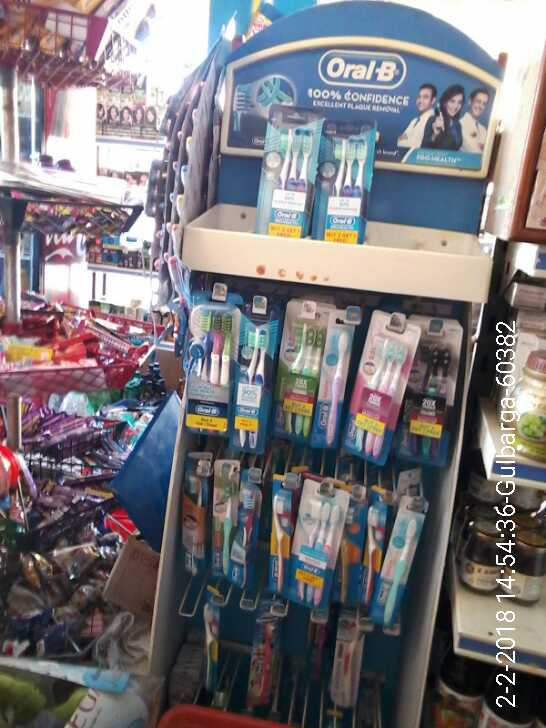oralb: (254, 91, 322, 242), (398, 301, 455, 475), (179, 296, 238, 434), (358, 302, 405, 466), (229, 287, 274, 453), (318, 119, 371, 249), (277, 299, 321, 444), (375, 509, 415, 638), (296, 487, 334, 614), (318, 307, 349, 453), (180, 448, 216, 566), (208, 452, 239, 575), (265, 481, 297, 597), (234, 454, 259, 595), (350, 502, 381, 612)
